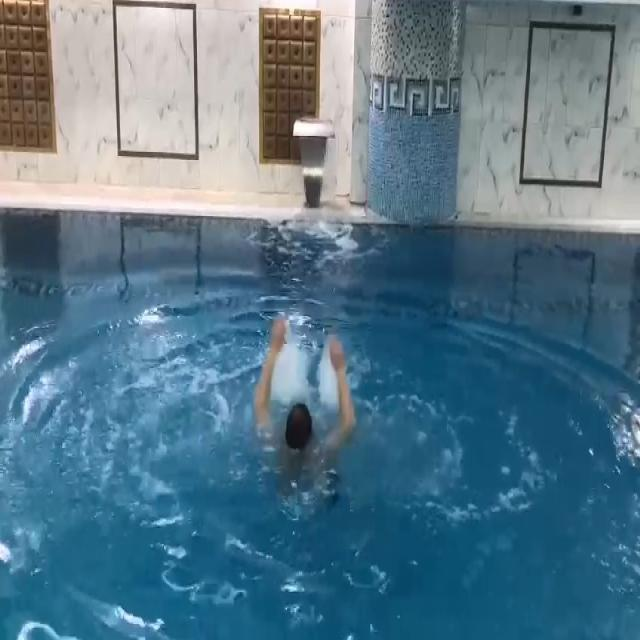Drowning: (255, 316, 357, 492)
